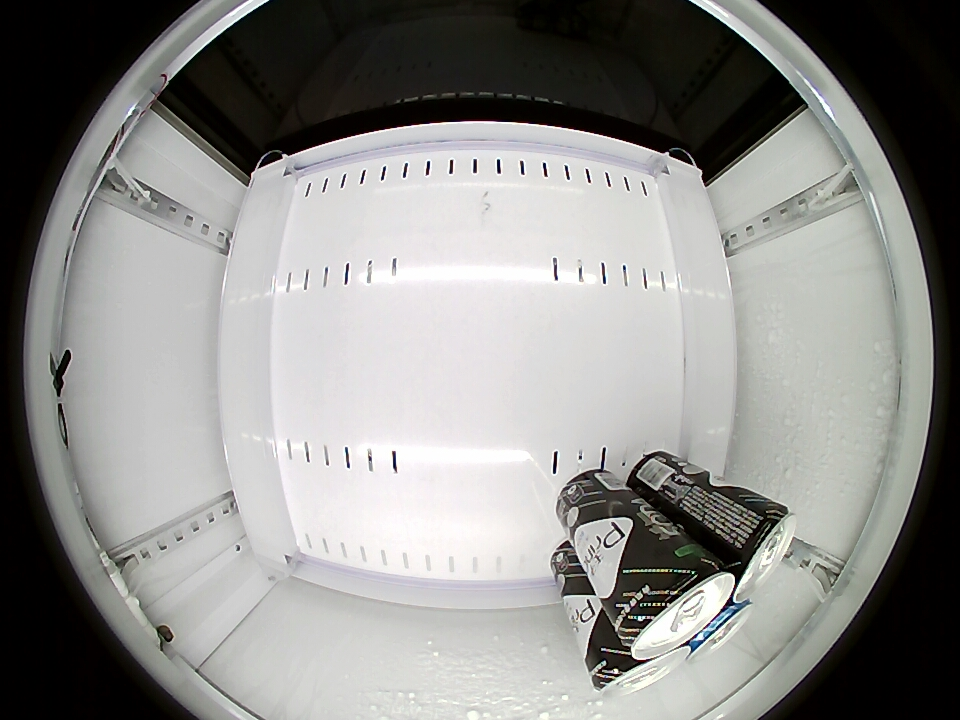qingdaowangzi-1: (616, 542, 733, 662), (724, 500, 798, 602), (587, 635, 691, 698)
qingdaowangzi-2: (686, 599, 753, 659)
